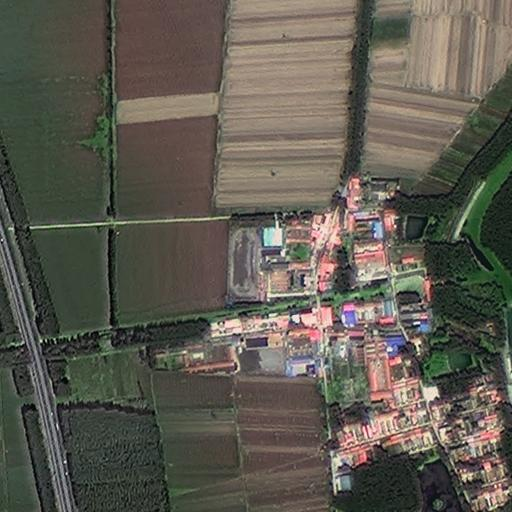school: (226, 218, 316, 299)
